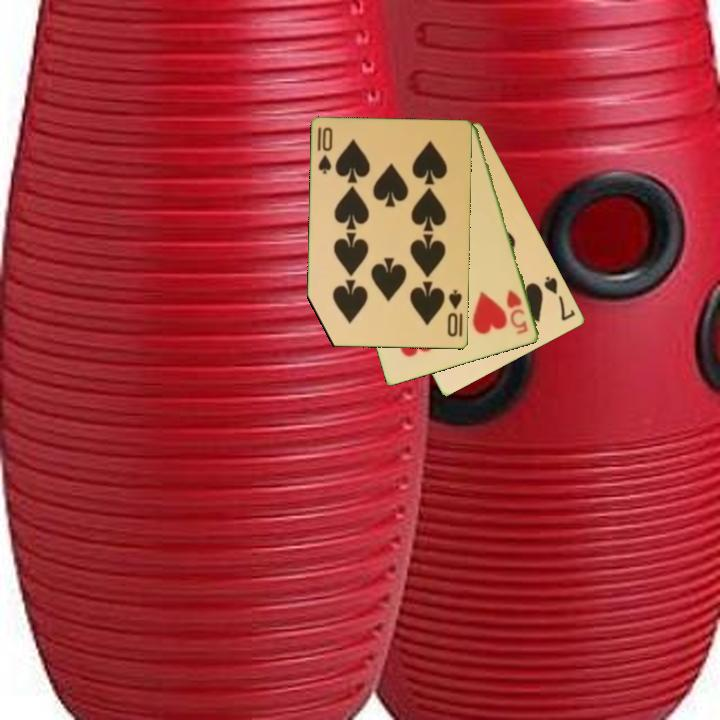10s: (444, 287, 465, 340), (314, 124, 335, 177)
5h: (503, 286, 531, 337)
7s: (541, 272, 579, 324)
